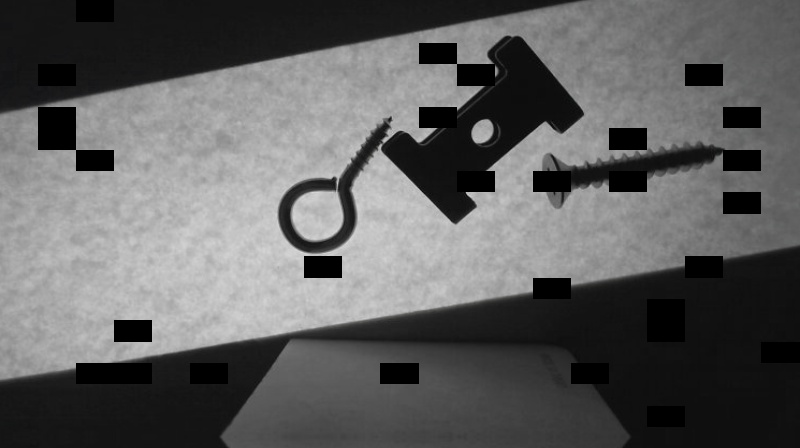O001: (276, 113, 396, 255)
O002: (380, 32, 584, 224)
S001: (543, 138, 725, 211)
